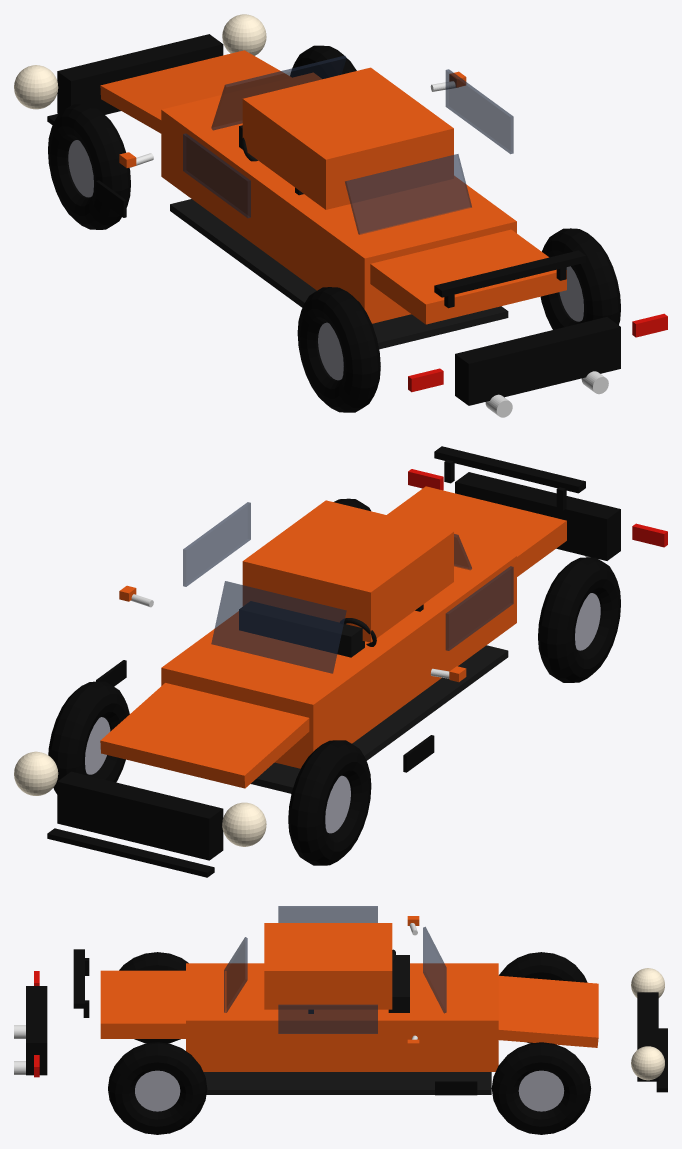
Rendered from game_sports_car.obj.
The picture shows the model from 3 angles, top to bottom: view 1: azimuth 30°, elevation 25°; view 2: azimuth 150°, elevation 25°; view 3: azimuth 270°, elevation 25°; orthographic projection. The views are drawn at different scales.
Visible parts, largest first — view 1: Body_Main, Body_Cabin, Body_RearDeck, Bumper_Rear, Tire_RL, Body_Hood, RearWindow, Tire_FL, Underbody, Bumper_Front, Tire_RR, Windshield (+12 smaller); view 2: Body_Main, Body_Cabin, Body_Hood, Bumper_Front, Windshield, Body_RearDeck, Tire_FL, Tire_RL, Bumper_Rear, Tire_FR, Underbody, Dashboard (+10 smaller); view 3: Body_Main, Body_Cabin, Body_Hood, Underbody, Body_RearDeck, Tire_FR, Tire_RR, SideWindow_R, Bumper_Rear, Tire_FL, SideWindow_L, Rim_RR (+11 smaller).
Boxes of the visible parts, box(x1,y1,x2,y2) form: Body_Main: box(161, 72, 516, 323); Body_Cabin: box(242, 67, 453, 209); Body_RearDeck: box(370, 229, 566, 324); Bumper_Rear: box(455, 317, 620, 405); Tire_RL: box(297, 287, 380, 412); Body_Hood: box(100, 50, 291, 133); RearWindow: box(345, 154, 471, 234); Tire_FL: box(48, 104, 130, 229); Underbody: box(170, 199, 508, 349); Bumper_Front: box(57, 34, 223, 114); Tire_RR: box(540, 228, 620, 329); Windshield: box(211, 55, 346, 130); Body_Main: box(161, 541, 516, 768); Body_Cabin: box(242, 500, 453, 642); Body_Hood: box(100, 683, 309, 788); Bumper_Front: box(57, 771, 223, 860); Windshield: box(211, 581, 346, 673); Body_RearDeck: box(387, 486, 566, 576); Tire_FL: box(288, 740, 371, 865); Tire_RL: box(538, 557, 620, 682); Bumper_Rear: box(455, 472, 620, 560); Tire_FR: box(48, 681, 129, 794); Underbody: box(251, 645, 508, 793); Dashboard: box(239, 601, 364, 657); Body_Main: box(186, 963, 498, 1071); Body_Cabin: box(264, 923, 392, 1009); Body_Hood: box(498, 975, 598, 1047); Underbody: box(203, 1072, 491, 1094); Body_RearDeck: box(100, 970, 185, 1038); Tire_FR: box(491, 1042, 591, 1134); Tire_RR: box(108, 1042, 207, 1134); SideWindow_R: box(278, 1004, 377, 1033); Bumper_Rear: box(26, 986, 47, 1075); Tire_FL: box(499, 952, 587, 1043); SideWindow_L: box(278, 906, 377, 922); Rim_RR: box(135, 1070, 180, 1111).
Size of the model in its own units: 2.12 by 1.1 by 4.6.
